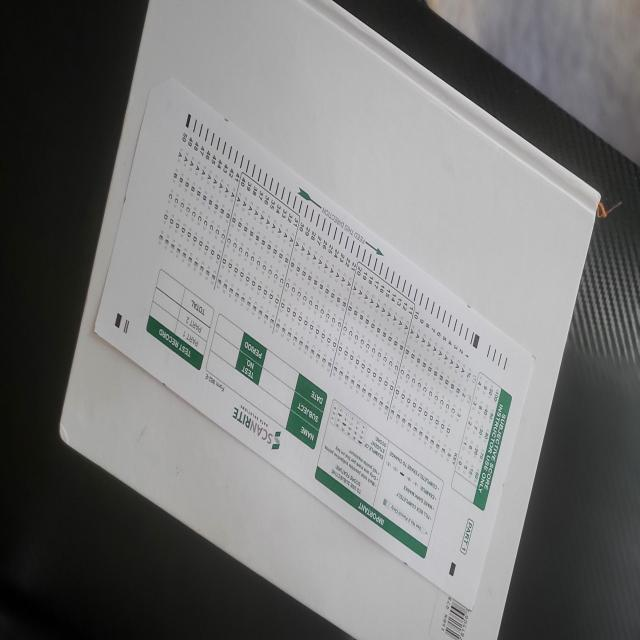scantron: (93, 74, 537, 612)
